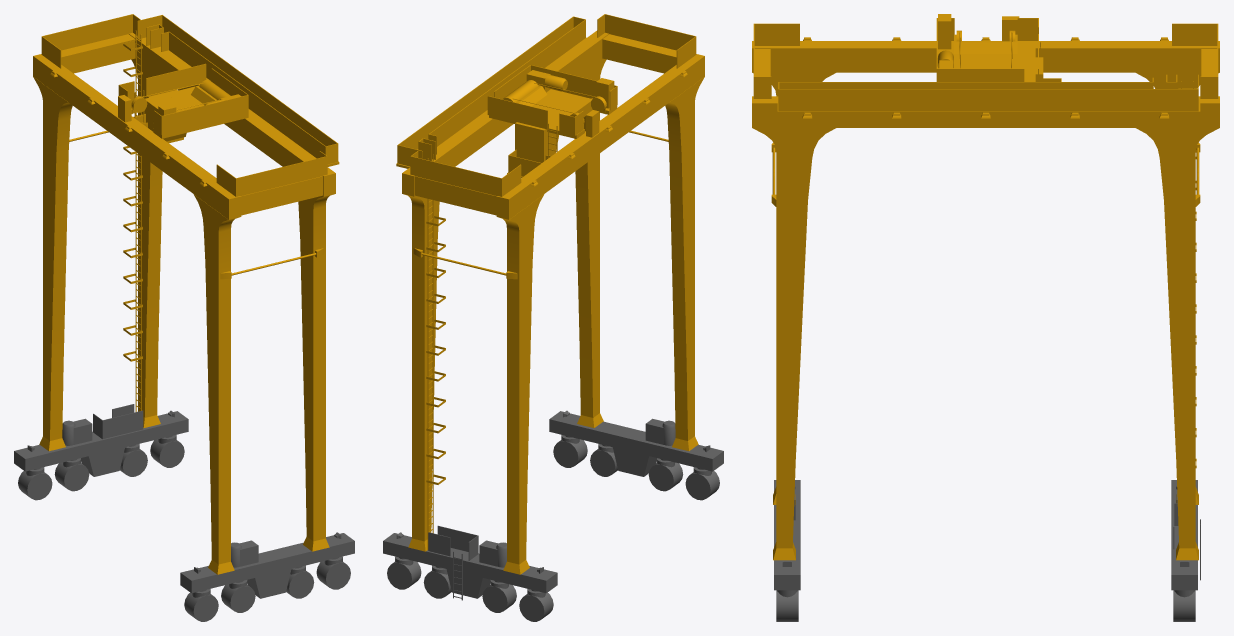
File: GantryCrane_small.fbx
3 renders of one model, left to right at view 1: azimuth 30°, elevation 25°; view 2: azimuth 150°, elevation 25°; view 3: azimuth 270°, elevation 25°, orthographic. The views are drawn at different scales.
Parts seen in each view (by area): view 1: Gantry_Crane_02_Structure_01, GantryCrane_02_Traction_02, Gantry_Crane_02_Traction_01, Gantry_Crane_02_Trolley_01; view 2: Gantry_Crane_02_Structure_01, GantryCrane_02_Traction_02, Gantry_Crane_02_Trolley_01, Gantry_Crane_02_Traction_01; view 3: Gantry_Crane_02_Structure_01, Gantry_Crane_02_Trolley_01, GantryCrane_02_Traction_02, Gantry_Crane_02_Traction_01.
Boxes of the visible parts, <box> form: Gantry_Crane_02_Structure_01: <box>33,14,339,574</box>; GantryCrane_02_Traction_02: <box>14,404,188,500</box>; Gantry_Crane_02_Traction_01: <box>180,532,354,621</box>; Gantry_Crane_02_Trolley_01: <box>118,63,248,143</box>; Gantry_Crane_02_Structure_01: <box>396,14,704,574</box>; GantryCrane_02_Traction_02: <box>383,525,557,621</box>; Gantry_Crane_02_Trolley_01: <box>487,65,617,177</box>; Gantry_Crane_02_Traction_01: <box>549,410,723,500</box>; Gantry_Crane_02_Structure_01: <box>752,23,1219,560</box>; Gantry_Crane_02_Trolley_01: <box>936,14,1061,81</box>; GantryCrane_02_Traction_02: <box>1171,480,1200,621</box>; Gantry_Crane_02_Traction_01: <box>774,480,800,621</box>.
Bounding box in the file's own units: 796 × 2121 × 1653.
